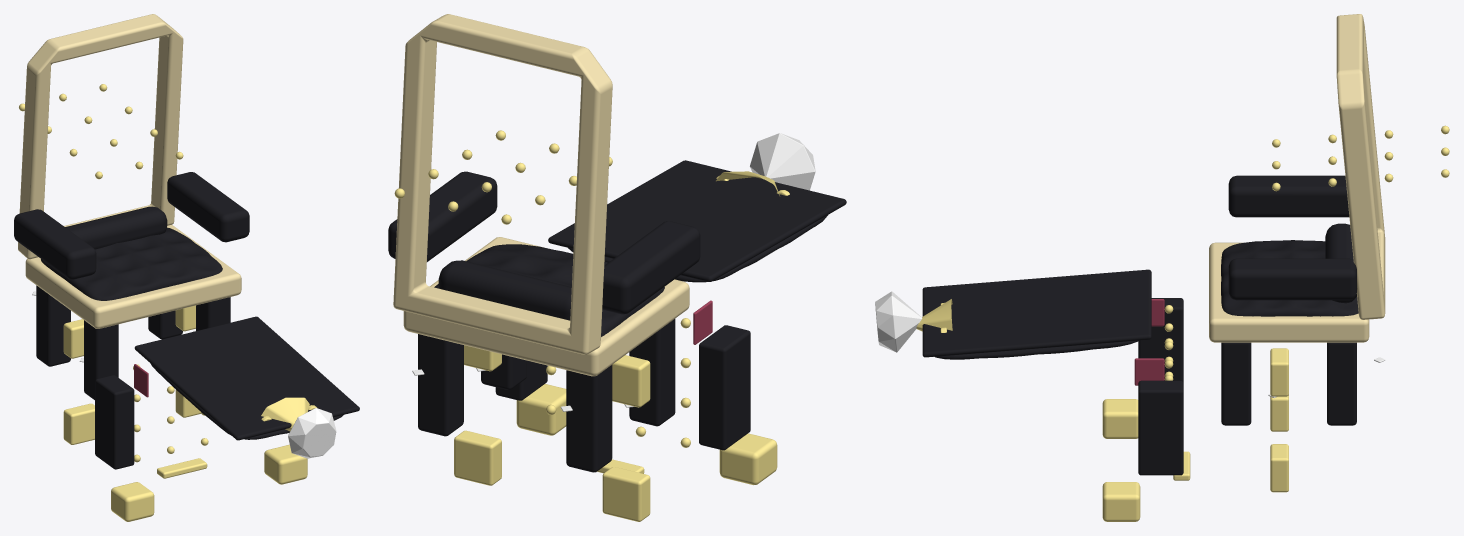
The model's file is BlackDiamondVIPChair.fbx.
The picture shows the model from 3 angles, left to right: view 1: azimuth 30°, elevation 25°; view 2: azimuth 150°, elevation 25°; view 3: azimuth 270°, elevation 25°; orthographic projection. The views are drawn at different scales.
Visible parts, largest first — view 1: Backrest_RearPanel, Backrest_Frame, Seat_Cushion, Seat_Frame, Armrest_L, Armrest_R, ArmSupport_L, Bolster_Cushion, Leg_BL, Leg_FL, Gem_Diamond, ArmCap_L (+10 smaller); view 2: Backrest_Frame, Backrest_RearPanel, Seat_Frame, ArmSupport_L, Armrest_L, Leg_BL, Bolster_Cushion, Leg_BR, Armrest_R, Seat_Cushion, Leg_FL, Gem_Diamond (+10 smaller); view 3: Backrest_RearPanel, Backrest_Frame, Armrest_R, Seat_Frame, Armrest_L, Seat_Cushion, ArmSupport_R, Leg_FR, Leg_BR, ArmSupport_L, Backrest_TuftedPanel, Gem_Diamond (+8 smaller).
Boxes of the visible parts, left/top/right/bottom form: Backrest_RearPanel: left=134, top=316, right=359, bottom=440; Backrest_Frame: left=18, top=14, right=183, bottom=259; Seat_Cushion: left=41, top=227, right=222, bottom=462; Seat_Frame: left=25, top=225, right=241, bottom=328; Armrest_L: left=14, top=209, right=96, bottom=279; Armrest_R: left=167, top=172, right=249, bottom=242; ArmSupport_L: left=95, top=375, right=134, bottom=469; Bolster_Cushion: left=65, top=206, right=167, bottom=249; Leg_BL: left=36, top=285, right=70, bottom=366; Leg_FL: left=84, top=320, right=118, bottom=399; Gem_Diamond: left=288, top=408, right=336, bottom=458; ArmCap_L: left=111, top=482, right=154, bottom=521; Backrest_Frame: left=393, top=14, right=612, bottom=354; Backrest_RearPanel: left=548, top=160, right=846, bottom=281; Seat_Frame: left=403, top=237, right=689, bottom=376; ArmSupport_L: left=699, top=325, right=750, bottom=450; Armrest_L: left=602, top=221, right=700, bottom=314; Leg_BL: left=566, top=365, right=612, bottom=472; Bolster_Cushion: left=438, top=260, right=571, bottom=320; Leg_BR: left=418, top=334, right=463, bottom=436; Armrest_R: left=388, top=171, right=497, bottom=261; Seat_Cushion: left=434, top=244, right=690, bottom=447; Leg_FL: left=629, top=319, right=675, bottom=426; Gem_Diamond: left=750, top=133, right=815, bottom=190; Backrest_RearPanel: left=922, top=269, right=1151, bottom=357; Backrest_Frame: left=1336, top=14, right=1385, bottom=319; Armrest_R: left=1228, top=258, right=1356, bottom=300; Seat_Frame: left=1209, top=242, right=1369, bottom=342; Armrest_L: left=1228, top=175, right=1349, bottom=217; Seat_Cushion: left=1164, top=240, right=1358, bottom=380; ArmSupport_R: left=1138, top=380, right=1183, bottom=475; Leg_FR: left=1221, top=342, right=1251, bottom=425; Leg_BR: left=1327, top=342, right=1356, bottom=425; ArmSupport_L: left=1138, top=298, right=1183, bottom=382; Backrest_TuftedPanel: left=934, top=125, right=1449, bottom=359; Gem_Diamond: left=875, top=291, right=922, bottom=352.
Bounding box in the file's own units: 1.24 × 2.53 × 3.05.
